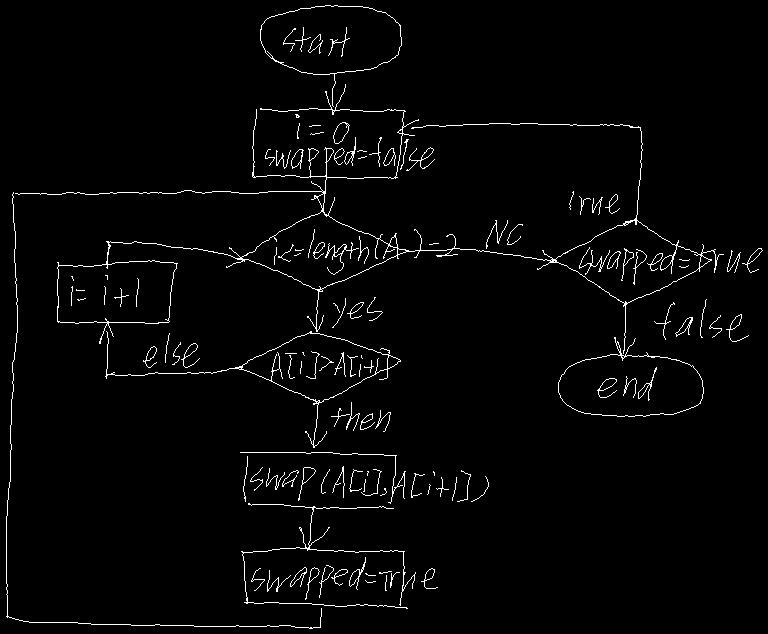arrow: (6, 181, 325, 628), (397, 119, 642, 224), (99, 318, 242, 378), (106, 241, 244, 268), (405, 248, 556, 269), (299, 506, 329, 550), (614, 302, 635, 360), (305, 400, 326, 447), (314, 173, 334, 216), (325, 73, 345, 114), (307, 289, 323, 331)
decision: (237, 209, 408, 291), (550, 218, 711, 304), (235, 331, 400, 404)
process: (252, 108, 405, 178), (241, 547, 407, 608), (240, 452, 396, 508), (57, 260, 177, 323)
terminator: (260, 5, 401, 74), (558, 352, 703, 416)
text: (265, 114, 434, 177), (250, 466, 488, 501), (274, 229, 457, 274), (579, 240, 762, 284), (251, 557, 437, 599), (654, 299, 748, 341), (271, 348, 389, 380), (71, 275, 138, 306), (597, 367, 656, 400), (283, 27, 349, 56), (143, 333, 199, 367), (331, 402, 390, 431), (332, 297, 382, 327), (569, 191, 619, 214), (486, 220, 522, 248)
